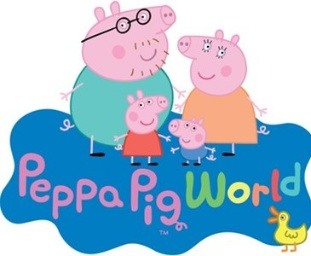Peppa: (114, 90, 169, 168)
